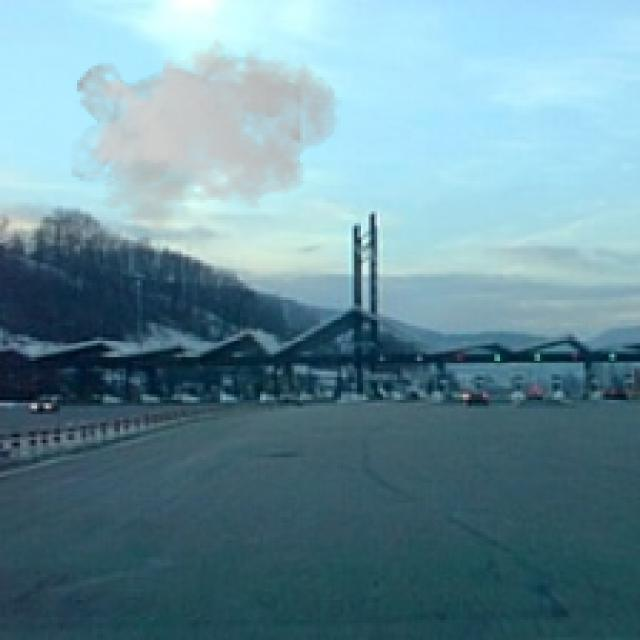Smoke: (71, 28, 340, 232)
